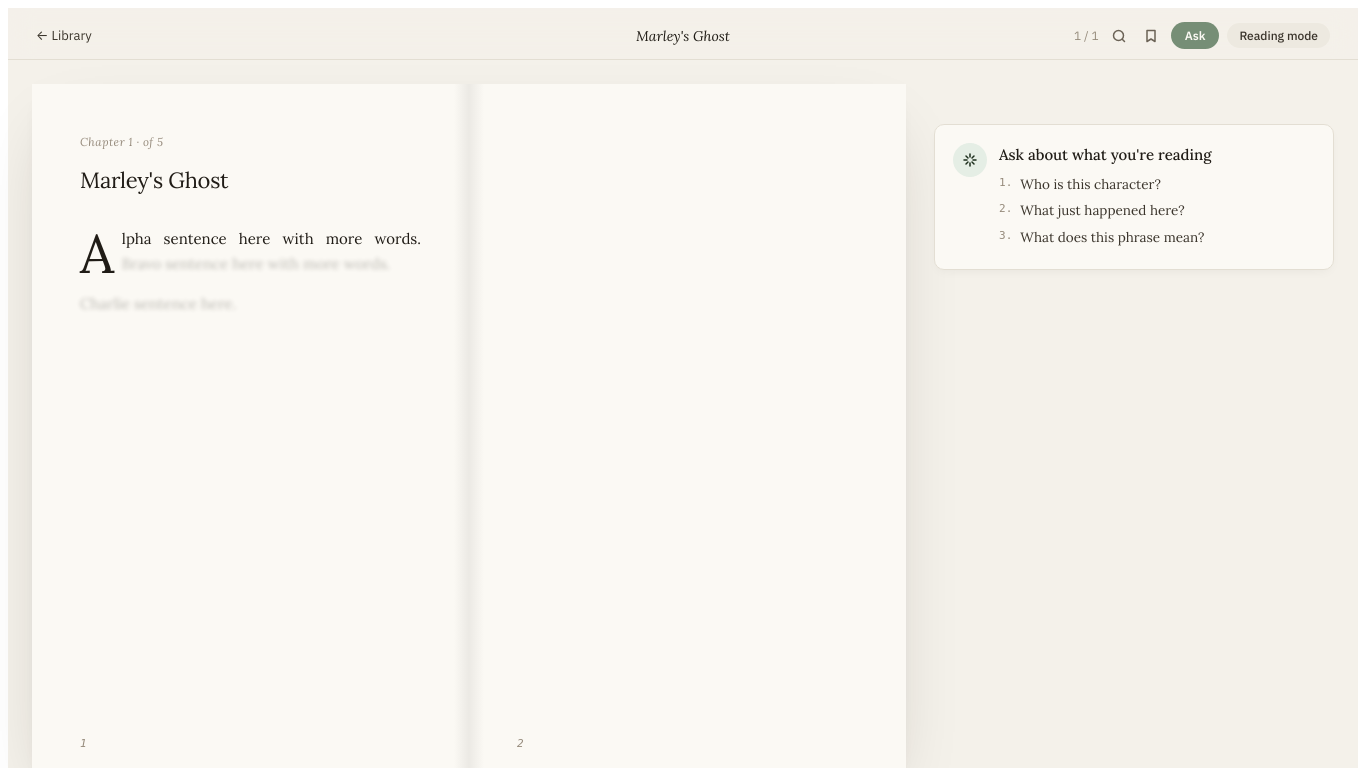
ReadingScreen — slice R4 reading mode integration › toggling the pill flips data-reading-mode and shows chrome when on
This screenshot has width=1366, height=768.
Click the button "Reading mode" at point(1279, 36), box [1227, 23, 1330, 48]
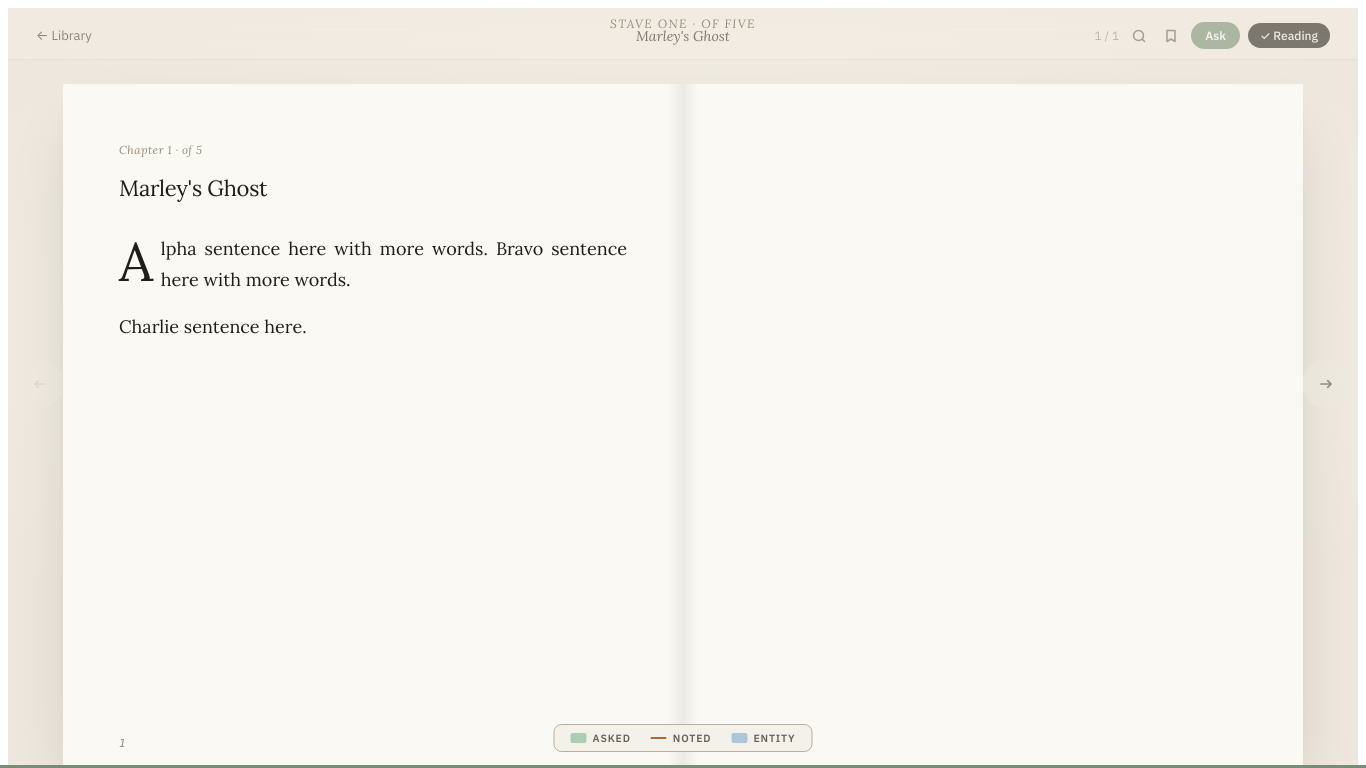
Result: the text "Stave One · of Five" is shown at [610, 16, 756, 31]
Result: the button with test id "page-arrow-left" is shown at [16, 360, 64, 408]
Result: the button with test id "page-arrow-right" is shown at [1302, 360, 1350, 408]
